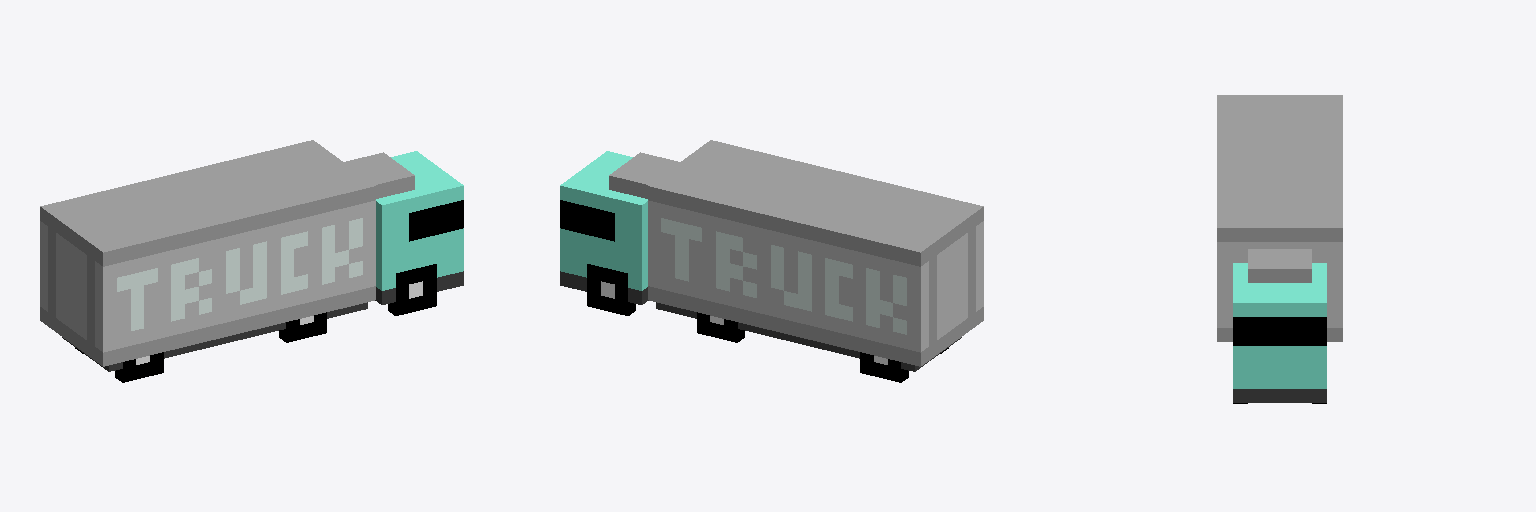
3 views of the same model, side by side, from view 1: azimuth 30°, elevation 25°; view 2: azimuth 150°, elevation 25°; view 3: azimuth 270°, elevation 25° (orthographic).
Parts seen in each view (by area): view 1: object 1; view 2: object 1; view 3: object 1.
Part boxes in pixels (x1,y1,x2,y2): object 1: (40, 140, 463, 382); object 1: (560, 140, 983, 382); object 1: (1217, 95, 1342, 403).
Bounding box in the file's own units: 2.7 × 1 × 0.8.
1 materials, 1 textured.